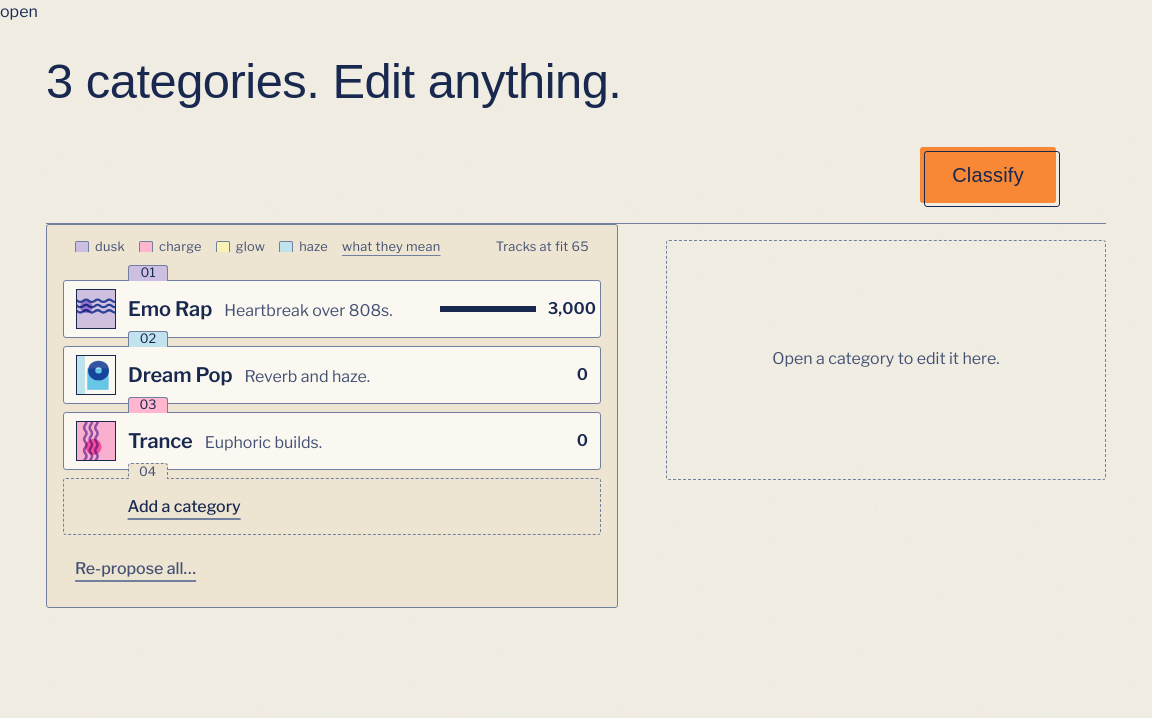
/review with saved categories › opens a row to edit its name and description in place
The image size is (1152, 718).
Click the button "Dream Pop Reverb and haze. 0". click: [332, 375]
box: [64,347,600,403]
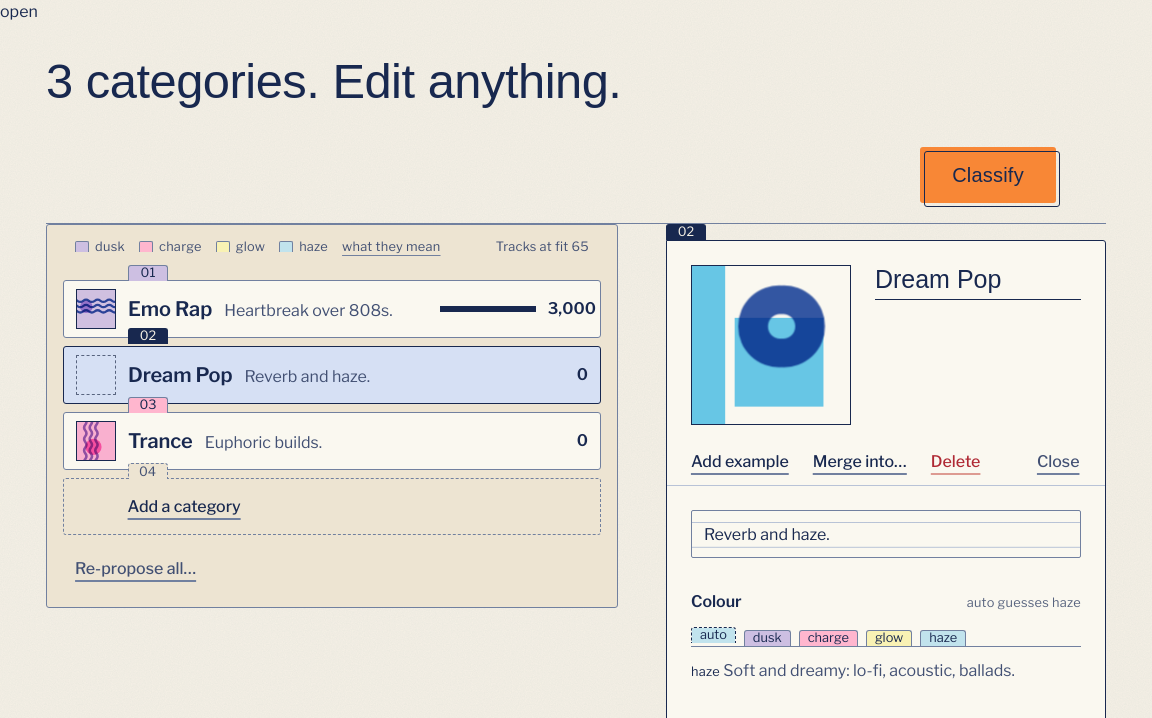
Expected: the text box named "Category name" holds "Dream Pop", [875,265,1081,300]
Expected: the text box named "Description" holds "Reverb and haze."
Replace the text in the text box named "Description" with "Hazy guitars.". click: [886, 534]
box: [691,510,1081,558]
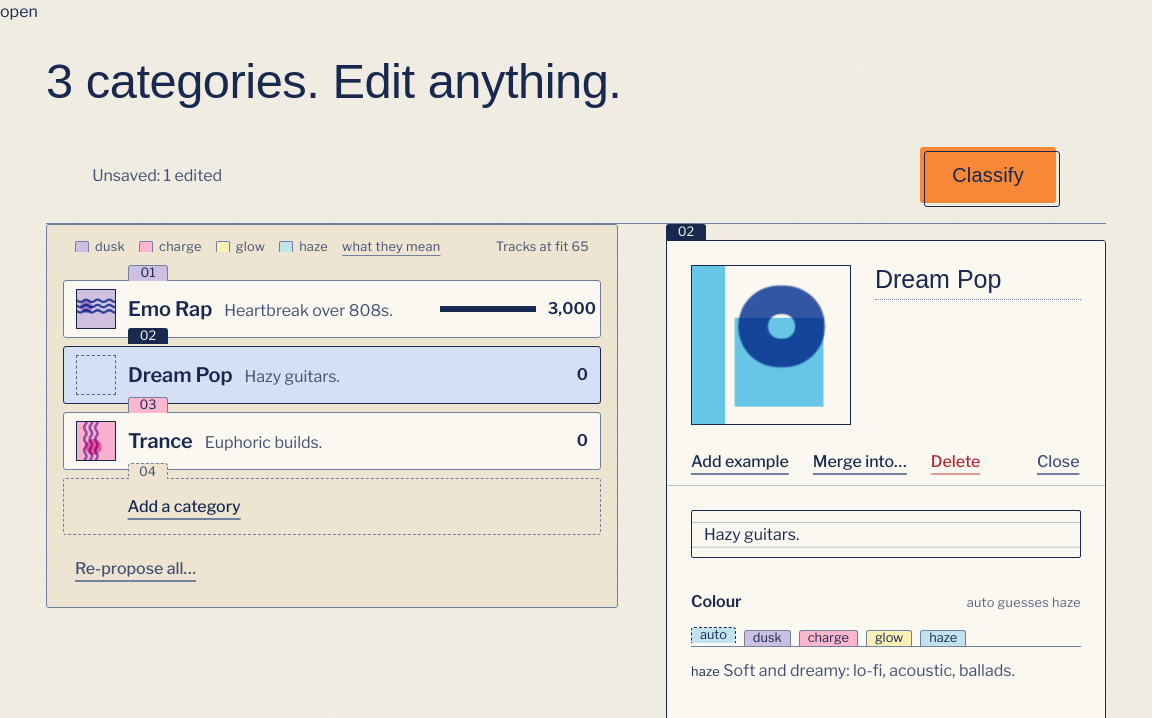
Click the button "Close". click: [1059, 463]
box: [1037,441,1081,485]
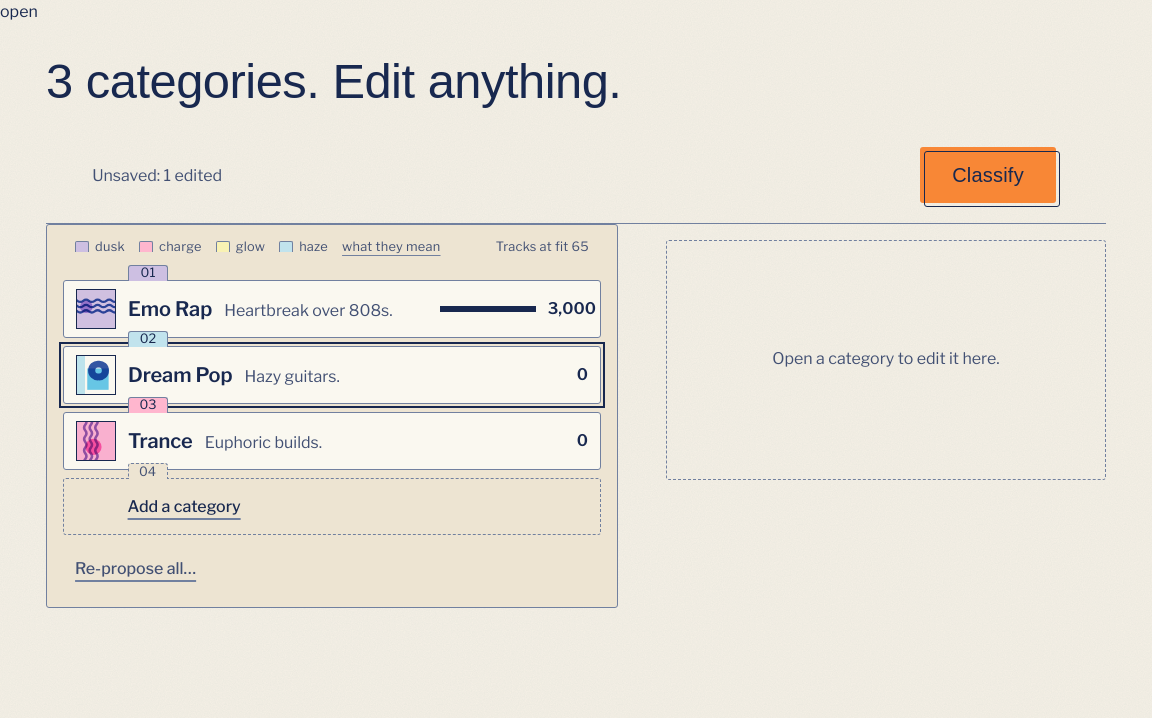
Expected: the text "Unsaved: 1 edited" is shown, [92,166,222,185]
Expected: the text box labelled "Description" is gone
